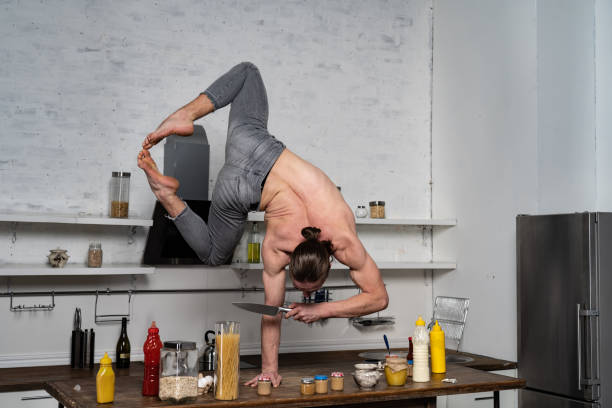knife: (231, 301, 292, 317)
